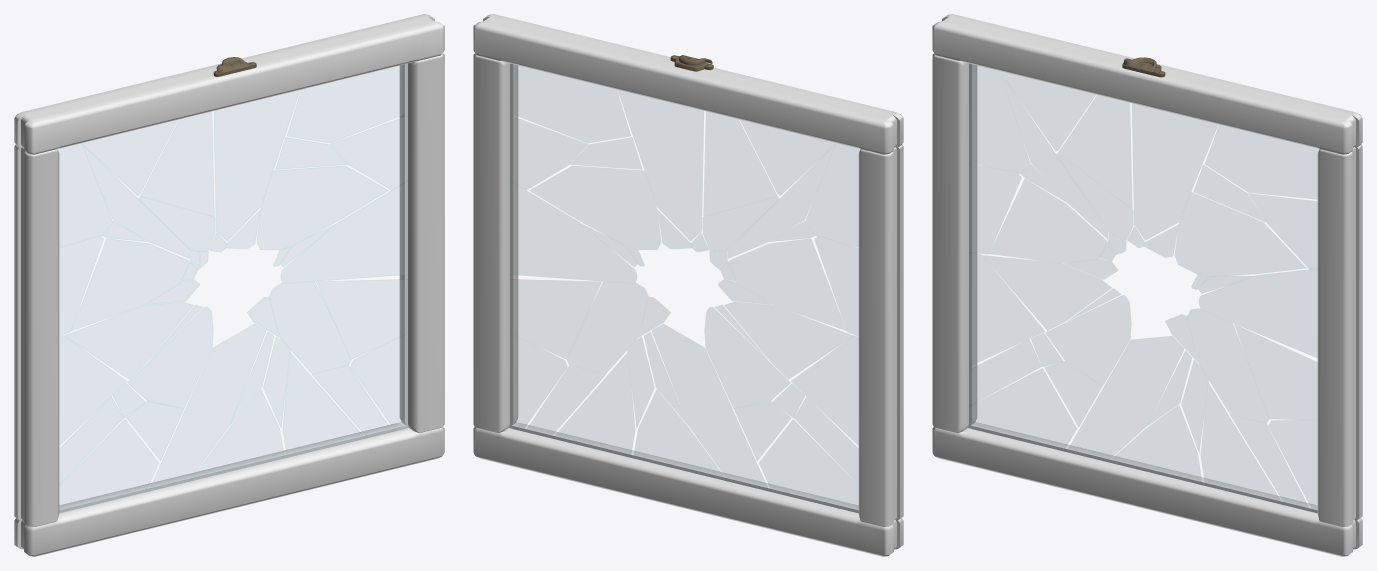
The model's file is GlassBrokenWindow.glb.
3 views of the same model, side by side, from view 1: azimuth 30°, elevation 25°; view 2: azimuth 150°, elevation 25°; view 3: azimuth 330°, elevation 25° (orthographic).
Parts seen in each view (by area): view 1: WindowsGlass, WindowFrame, WindowClasp; view 2: WindowsGlass, WindowFrame, WindowClasp; view 3: WindowsGlass, WindowFrame, WindowClasp.
Part boxes in pixels (x1=…): WindowsGlass: x1=58, y1=64, x2=408, y2=512; WindowFrame: x1=14, y1=14, x2=444, y2=556; WindowClasp: x1=213, y1=57, x2=256, y2=76; WindowsGlass: x1=509, y1=64, x2=859, y2=512; WindowFrame: x1=473, y1=14, x2=903, y2=556; WindowClasp: x1=670, y1=55, x2=713, y2=71; WindowsGlass: x1=968, y1=64, x2=1318, y2=512; WindowFrame: x1=932, y1=14, x2=1362, y2=556; WindowClasp: x1=1122, y1=57, x2=1165, y2=77.
Size of the model in its own units: 0.508 by 0.5165 by 0.0381.
3 materials, 1 textured.
